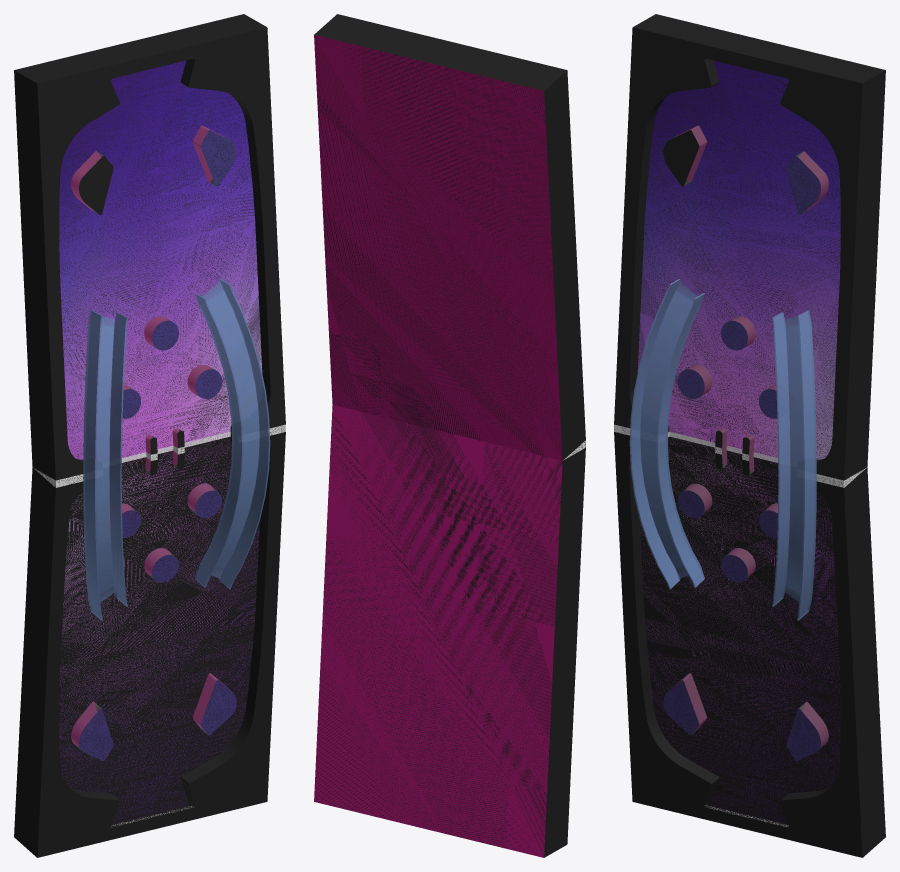
Rendered from stage.dae.
3 views of the same model, side by side, from view 1: azimuth 30°, elevation 25°; view 2: azimuth 150°, elevation 25°; view 3: azimuth 330°, elevation 25° (orthographic).
Parts seen in each view (by area): view 1: SketchUp (×16); view 2: SketchUp (×3); view 3: SketchUp (×16).
Part boxes in pixels (<box>): SketchUp (×16): <box>14,14,285,857</box>; SketchUp (×3): <box>314,14,585,857</box>; SketchUp (×16): <box>614,14,885,857</box>.
Size of the model in its own units: 3346 by 1350 by 10762.
9 materials, 1 textured.
